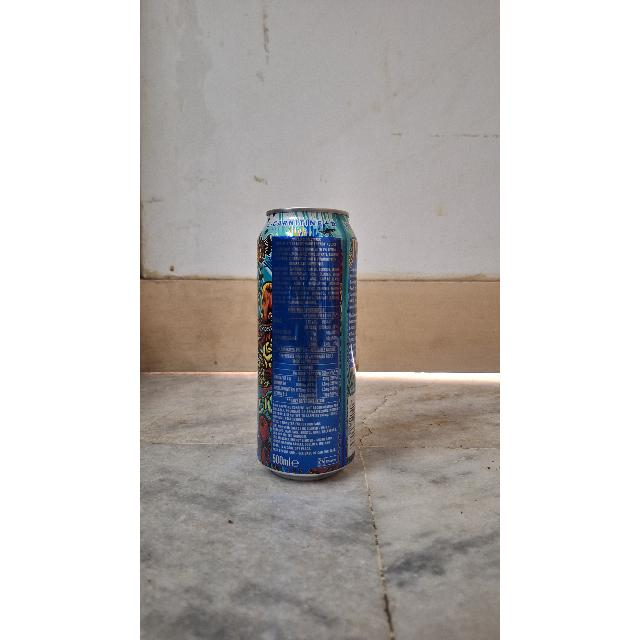Monster Aussie Lemonade: (247, 206, 363, 477)
